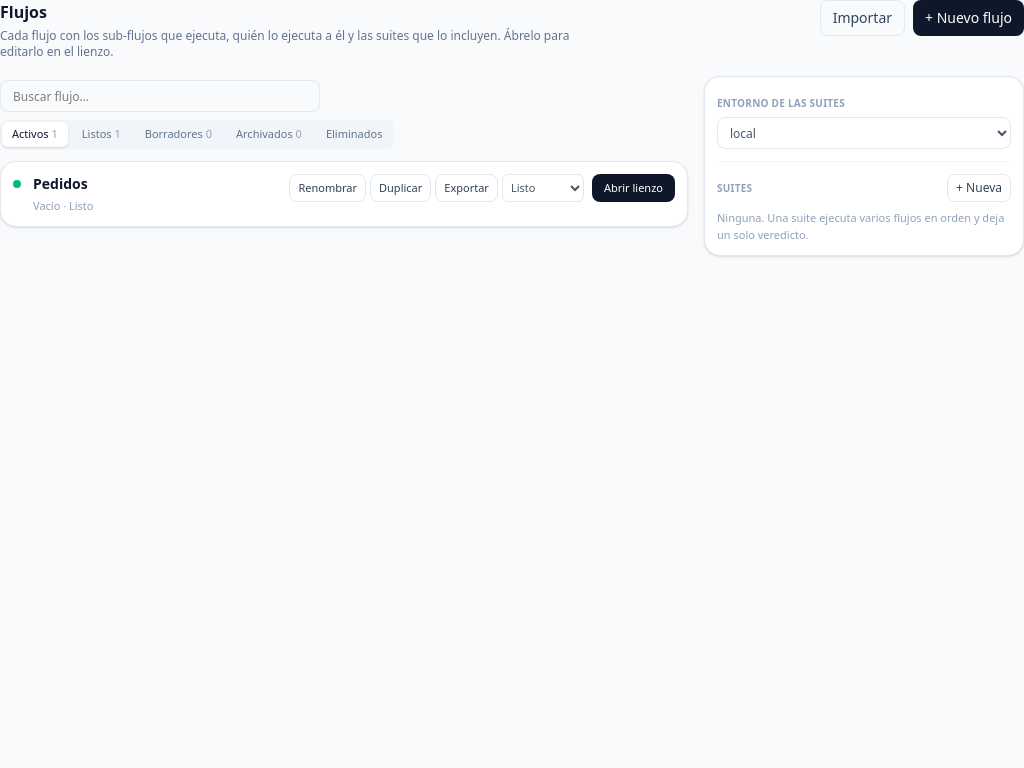
Test: la papelera de los flujos › cancelar el definitivo no manda nada
Expected: the text "Pedidos" is shown, [33,174,88,192]
Click the button "Eliminados" at (354, 134), box [316,122,392,146]
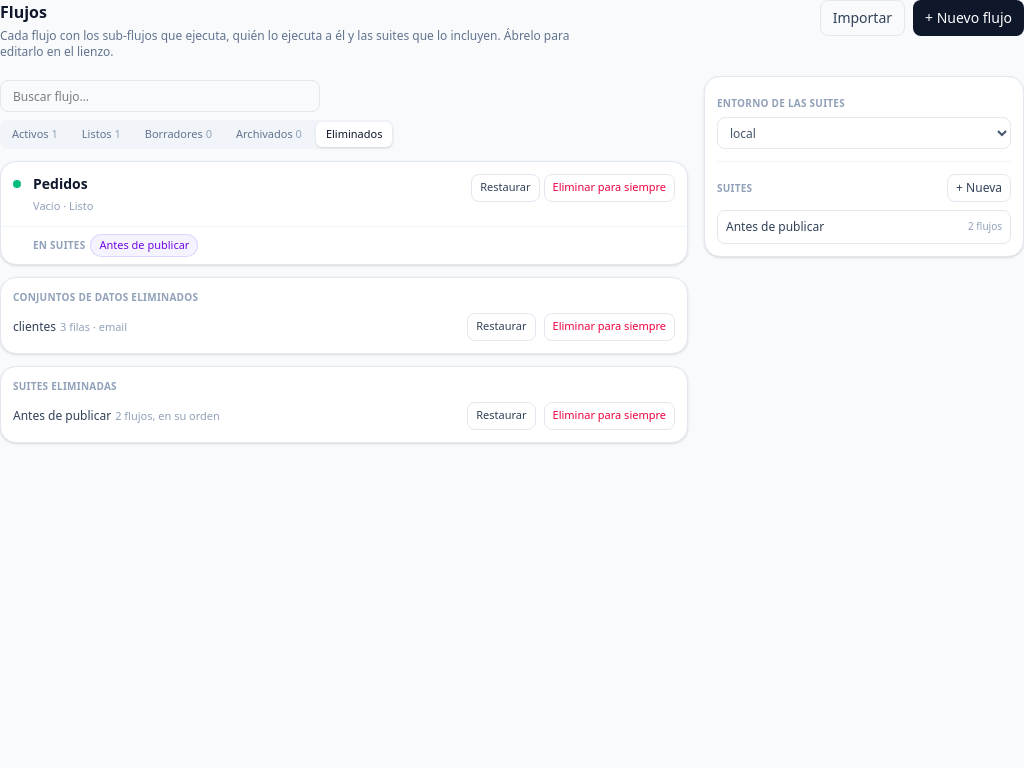
Click the button "Eliminar para siempre" in the row of "Pedidos" at (609, 188), box [544,174,675,202]
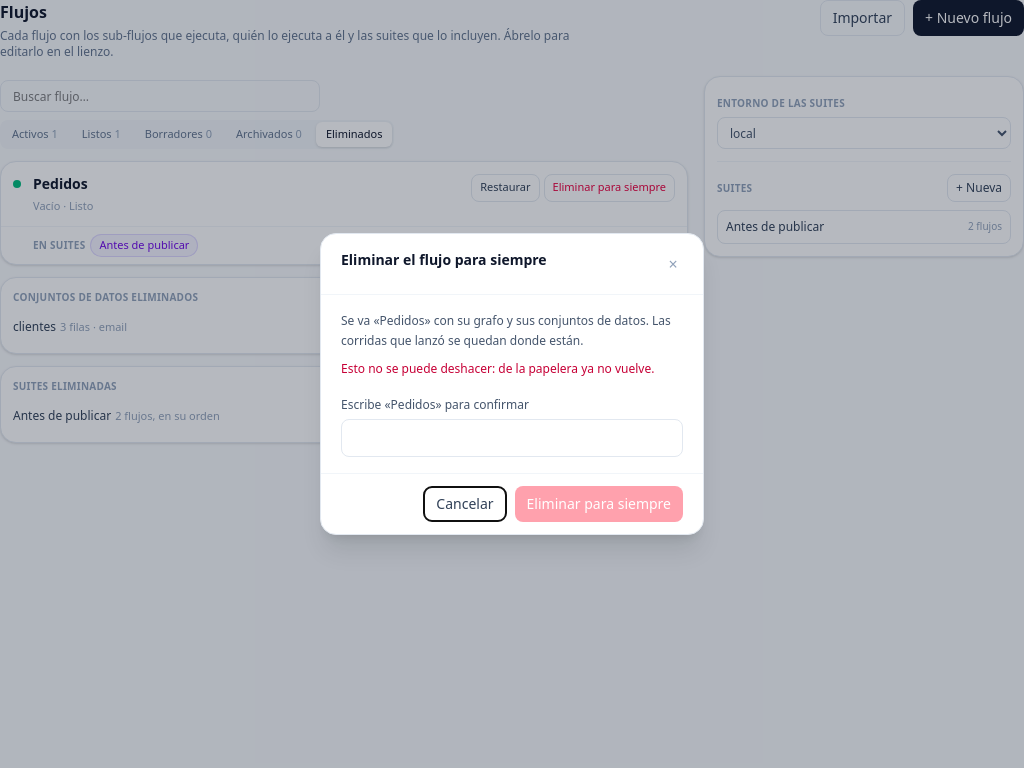
Click the button "Cancelar" at (465, 504), box [423,486,507,522]
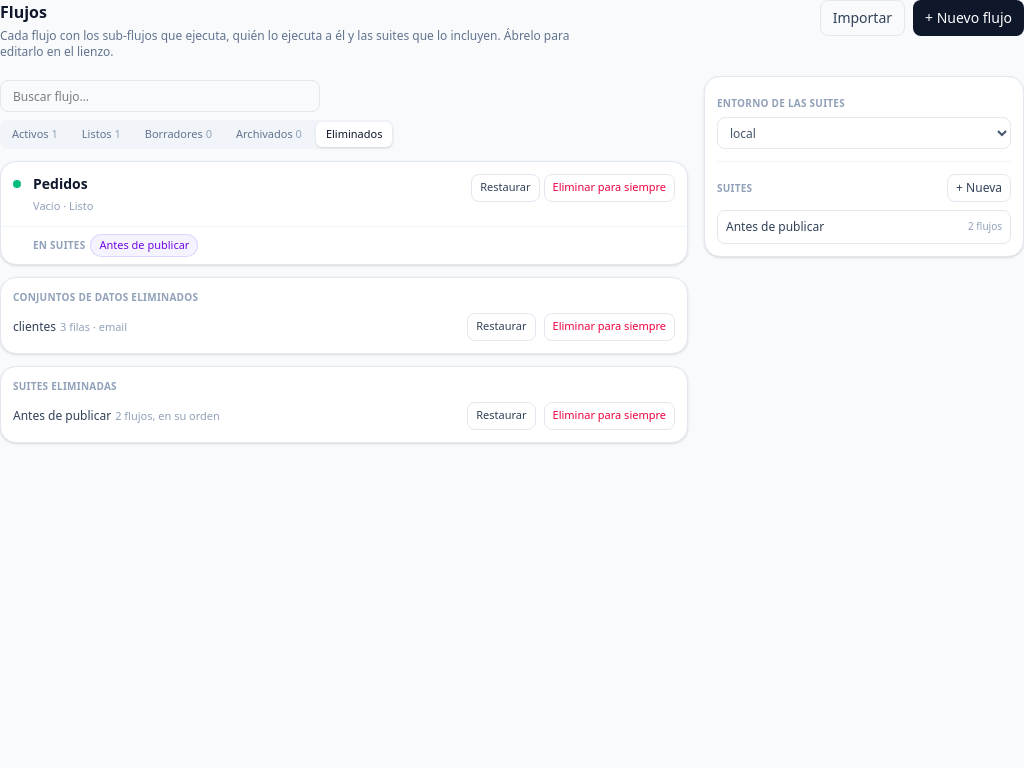
Expected: the dialog is gone
